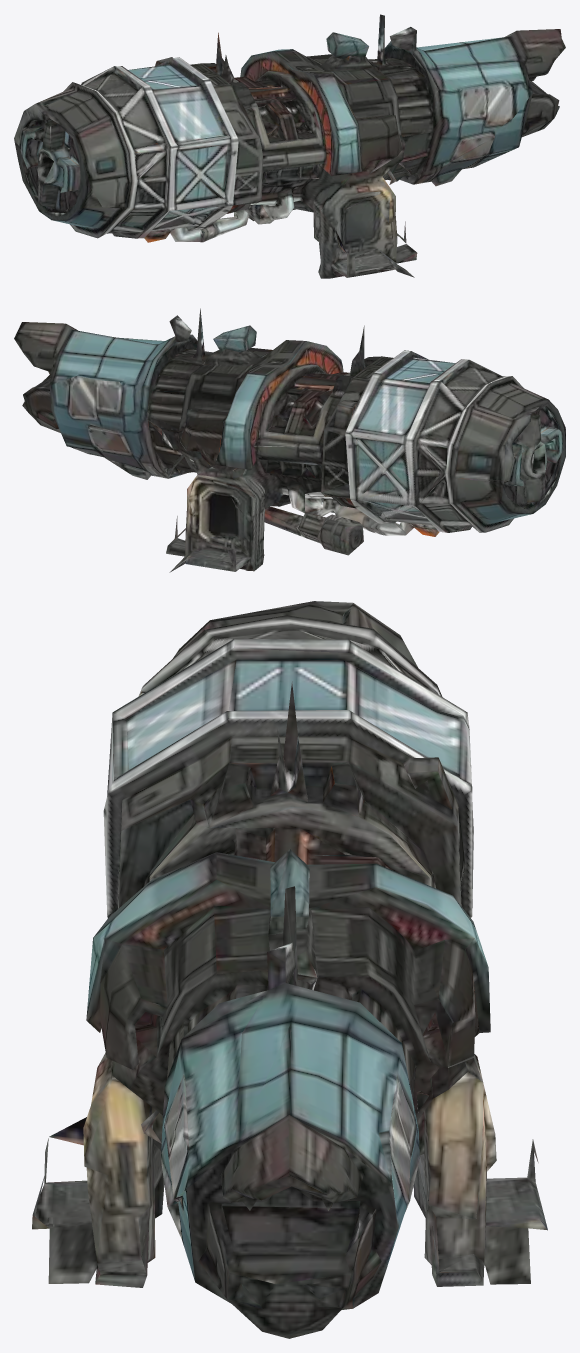
File: wreckage-model-1.glb
The picture shows the model from 3 angles, top to bottom: view 1: azimuth 30°, elevation 25°; view 2: azimuth 150°, elevation 25°; view 3: azimuth 270°, elevation 25°; orthographic projection. The views are drawn at different scales.
Visible parts, largest first — view 1: Mesh1.0; view 2: Mesh1.0; view 3: Mesh1.0.
Part boxes in pixels (<box>): Mesh1.0: <box>14,14,565,278</box>; Mesh1.0: <box>14,308,565,572</box>; Mesh1.0: <box>32,601,547,1338</box>.
Bounding box in the file's own units: 1.9 × 0.8267 × 0.8187.
Materials: 1 (1 with a texture image).
